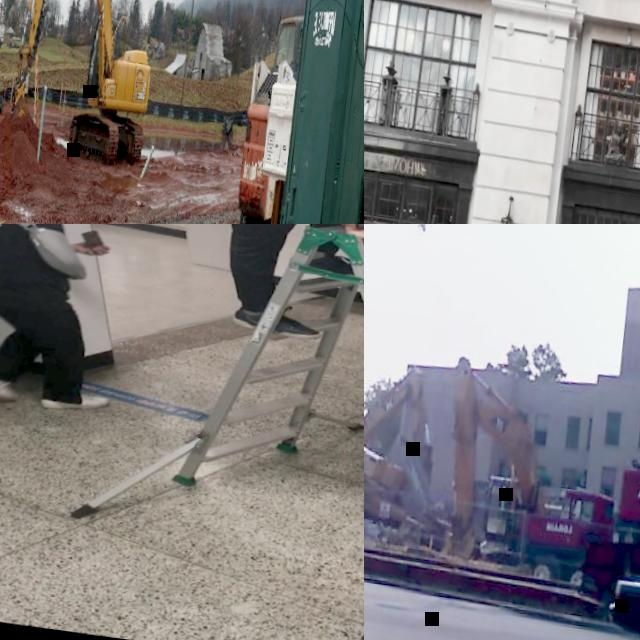NO-Safety Vest: (0, 224, 51, 297)
Person: (169, 224, 364, 361), (0, 224, 136, 414)
machinery: (427, 353, 574, 575), (0, 0, 171, 173), (227, 7, 307, 224), (364, 348, 443, 537)
vehicle: (600, 551, 640, 640)
